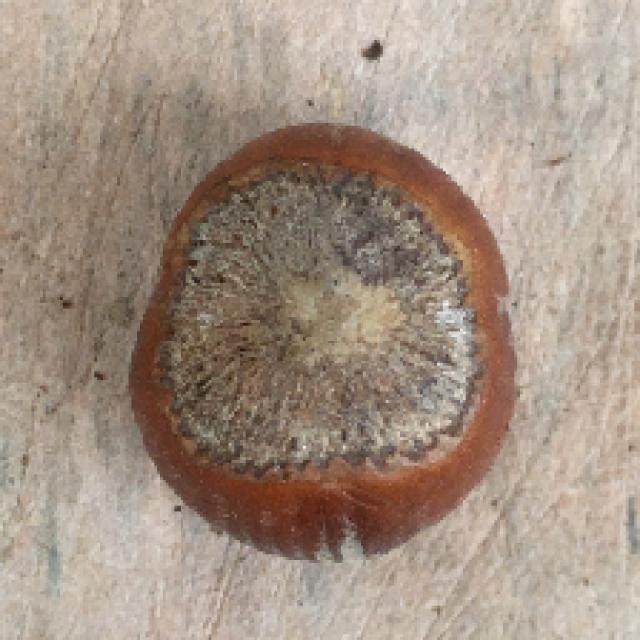damagedHazelnut: (124, 118, 509, 563)
